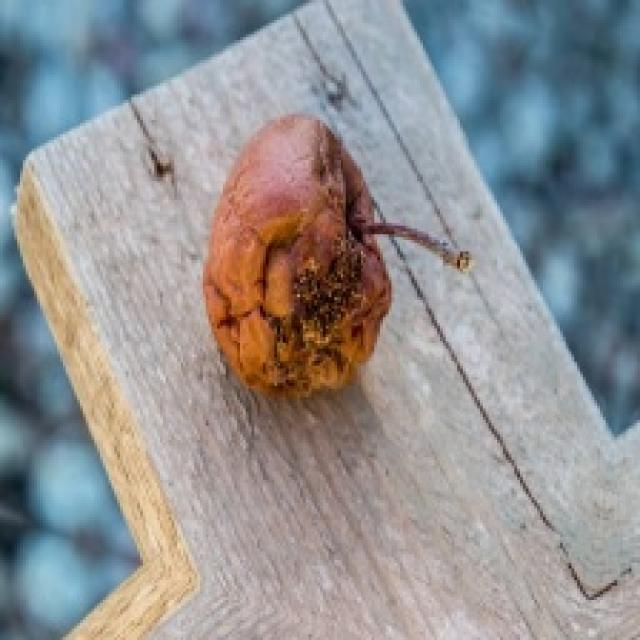rotten_apple: (211, 117, 387, 391)
